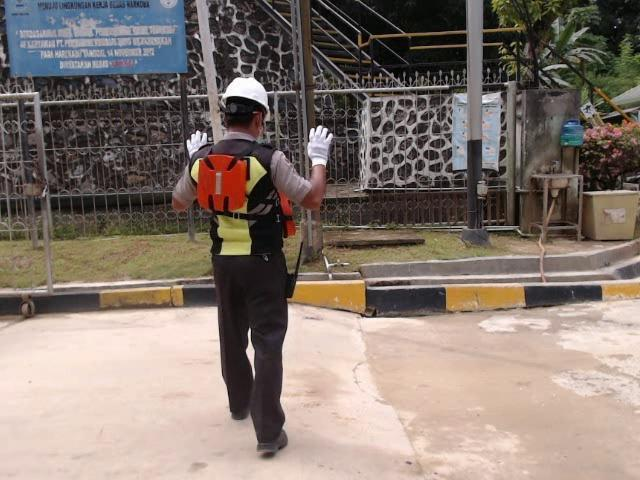vest: (195, 150, 251, 218)
